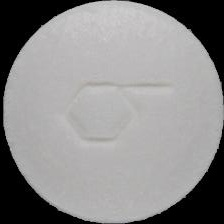66267-140: (0, 0, 224, 224)
